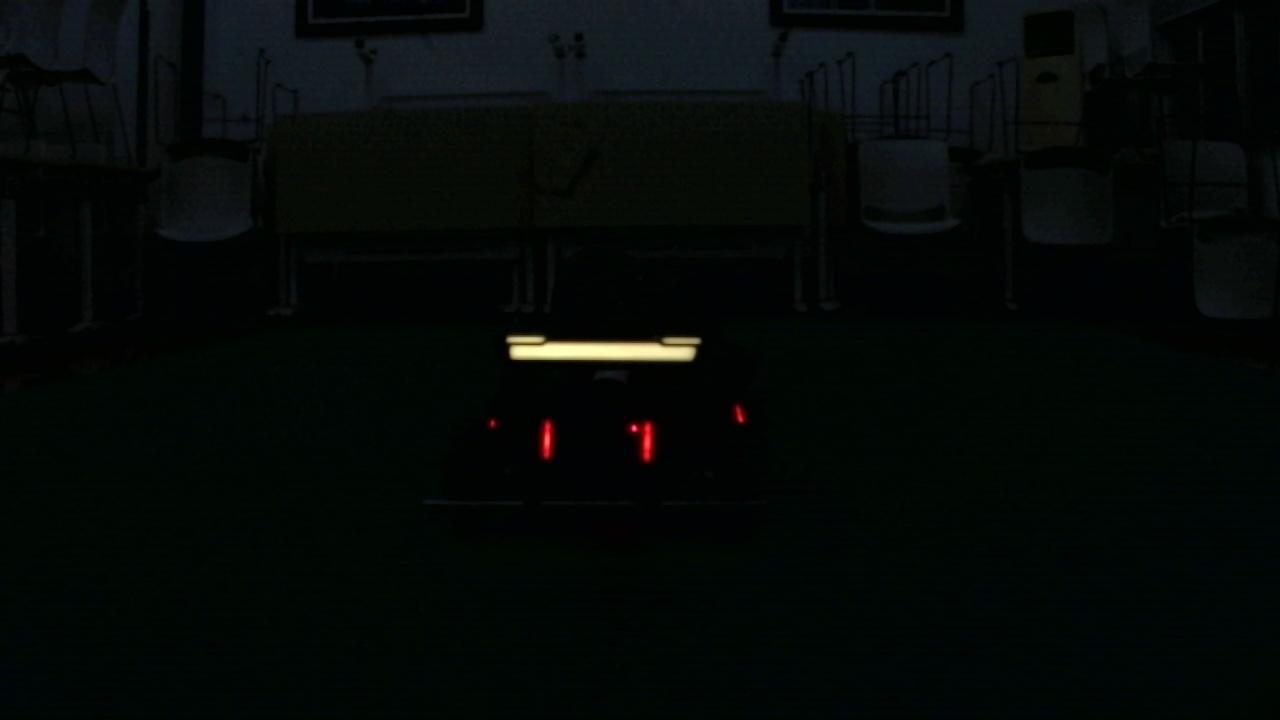lamp: (640, 419, 655, 463), (540, 415, 553, 455)
pair1: (544, 420, 652, 461)
